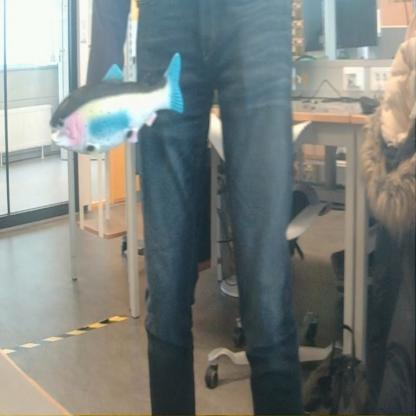rubberfish: (46, 47, 189, 159)
